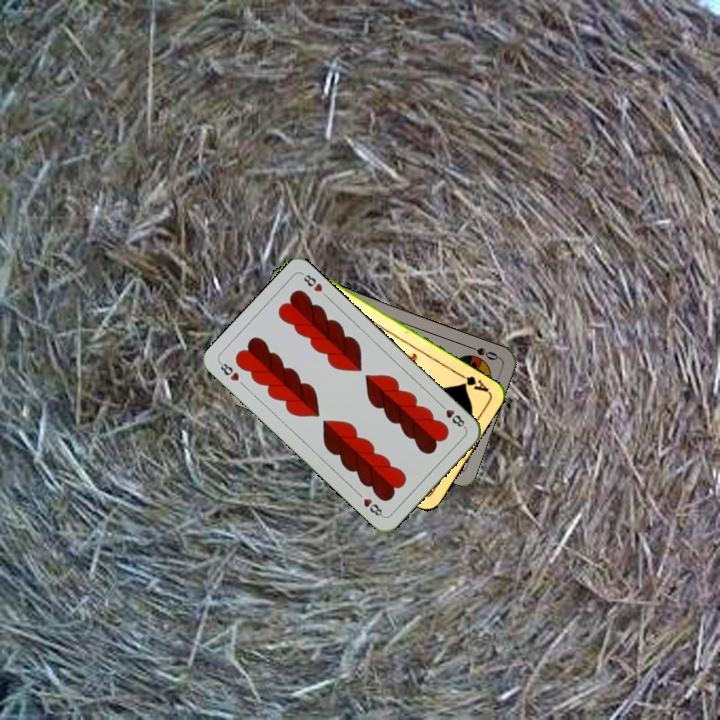GA: (454, 368, 492, 395)
H8: (435, 399, 468, 431), (215, 358, 241, 384)
SO: (462, 341, 501, 363)
